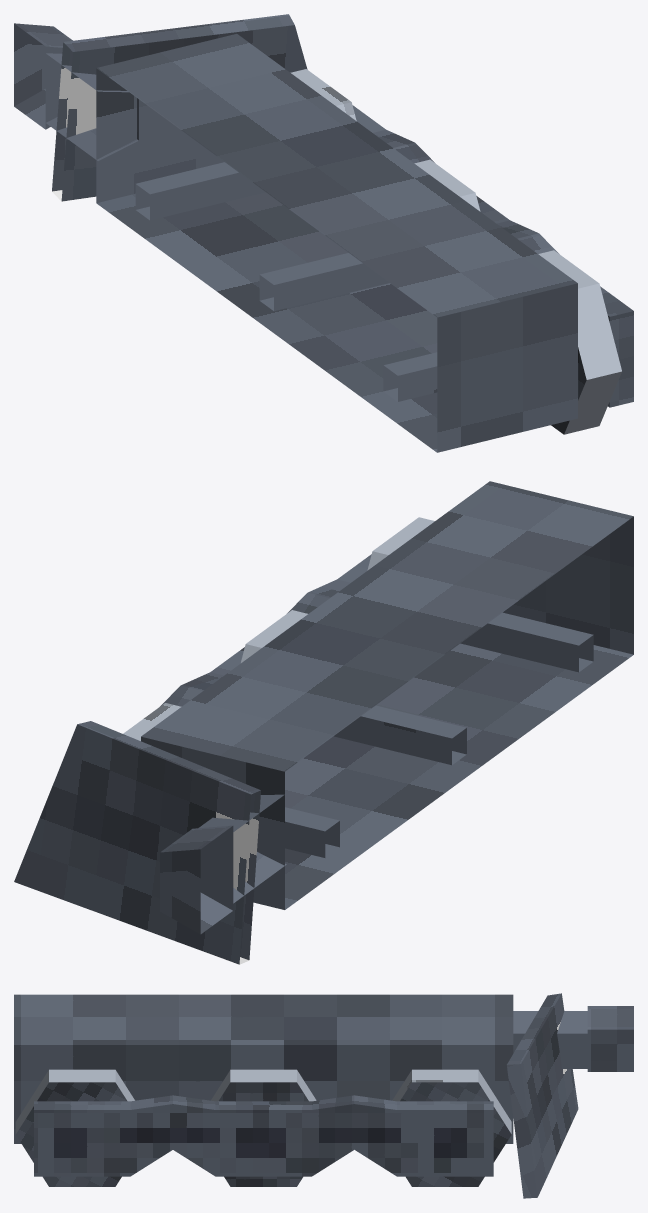
Rendered from diesel-locomotive-truck-back.blend.glb.
3 views of the same model, one above another, from view 1: azimuth 30°, elevation 25°; view 2: azimuth 150°, elevation 25°; view 3: azimuth 270°, elevation 25° (orthographic). The views are drawn at different scales.
Parts seen in each view (by area): view 1: loco-back-truck; view 2: loco-back-truck; view 3: loco-back-truck.
Boxes of the visible parts, x1,y1,x2,y2 form: loco-back-truck: [14, 14, 633, 452]; loco-back-truck: [14, 481, 633, 964]; loco-back-truck: [14, 993, 633, 1198].
Bounding box in the file's own units: 0.9046 × 0.6037 × 2.67.
1 material, 1 textured.
